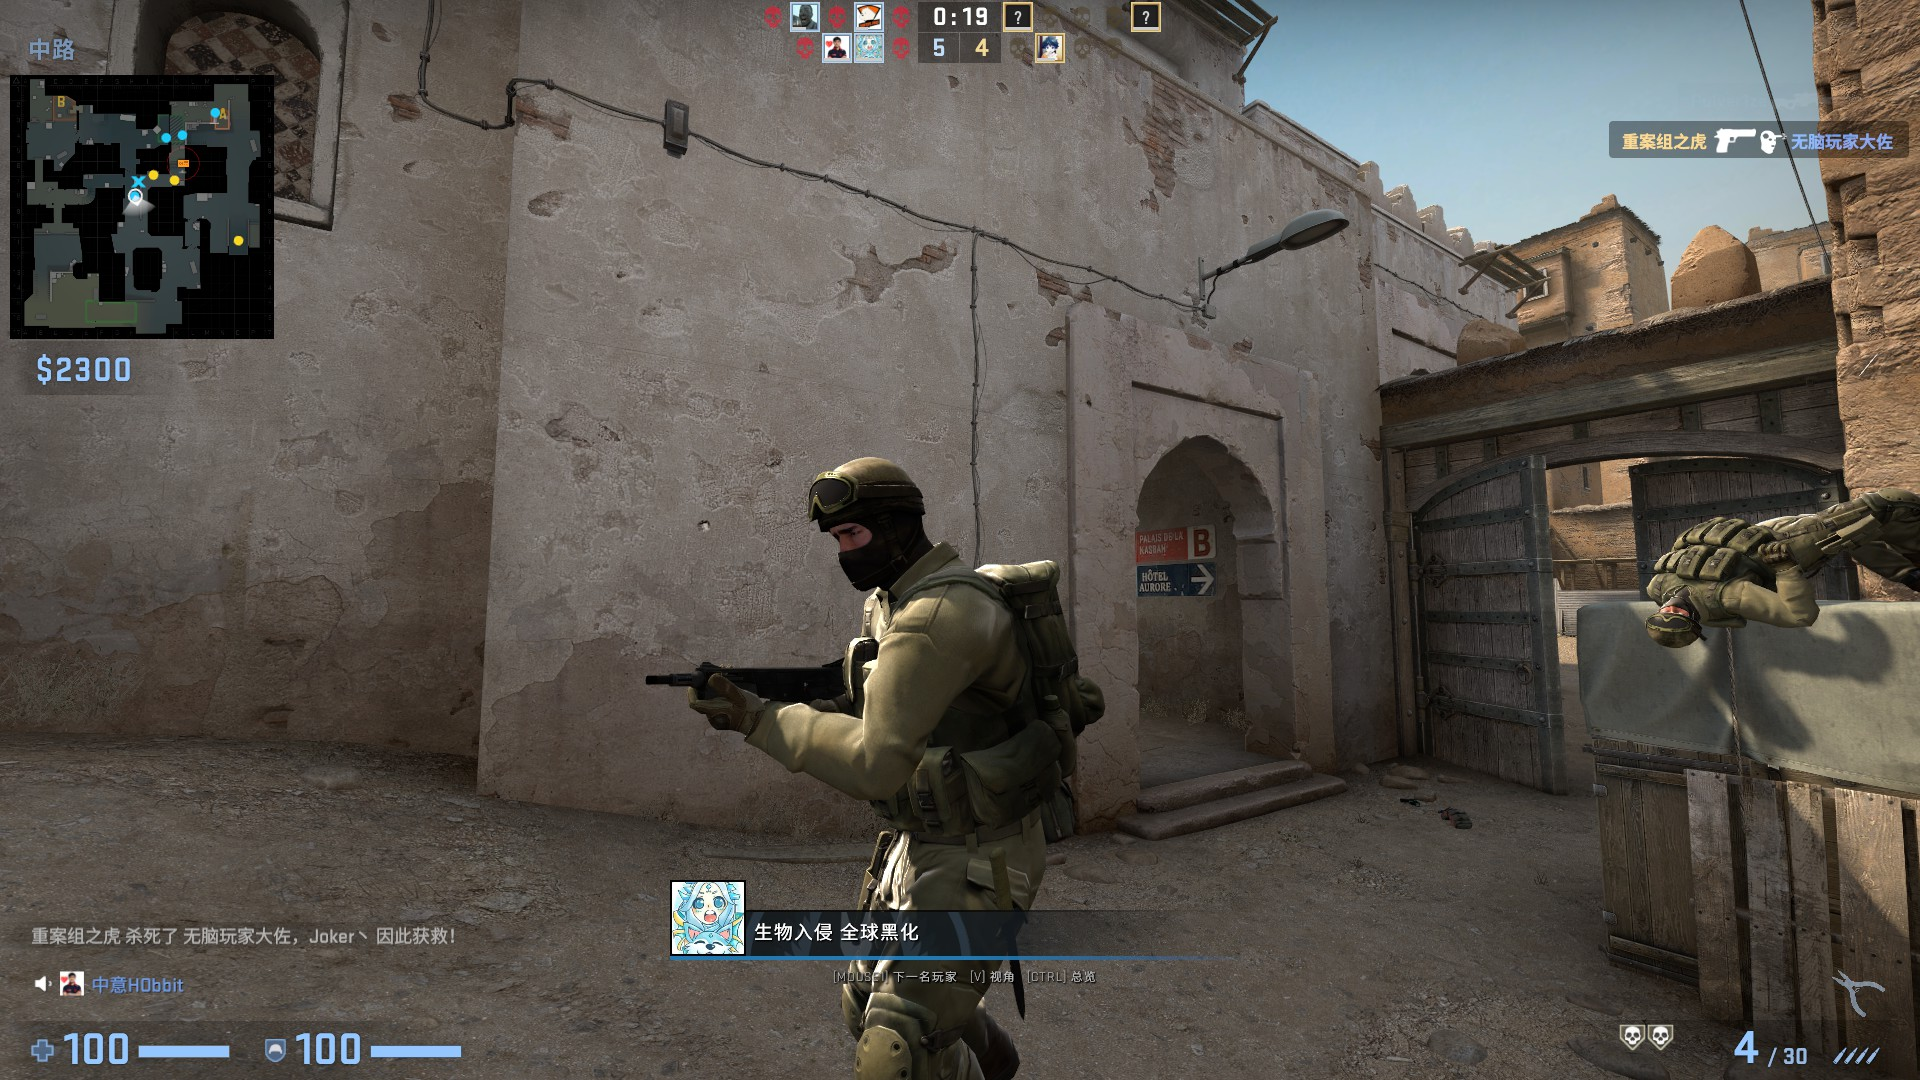head: (808, 453, 934, 591), (1645, 597, 1706, 649)
